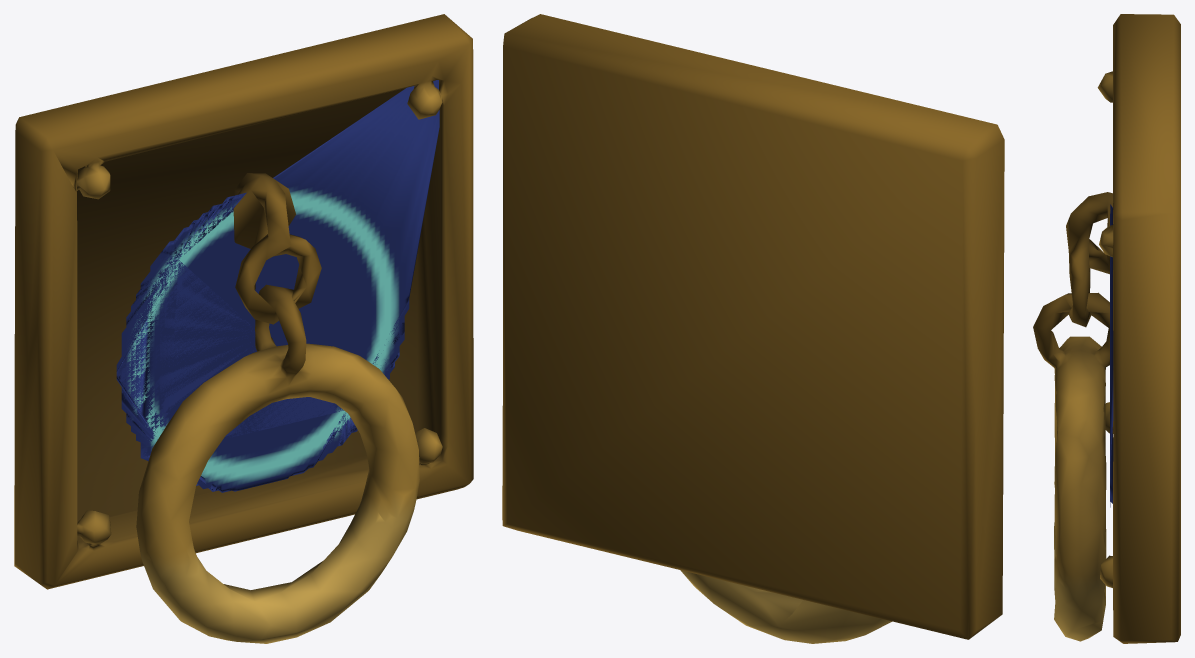
Rendered from aro_puxar.glb.
3 views of the same model, side by side, from view 1: azimuth 30°, elevation 25°; view 2: azimuth 150°, elevation 25°; view 3: azimuth 270°, elevation 25° (orthographic). The views are drawn at different scales.
Visible parts, largest first — view 1: Aro, Placa; view 2: Aro; view 3: Aro, Placa.
Part boxes in pixels (x1=…): Aro: x1=14, y1=14, x2=473, y2=643; Placa: x1=116, y1=80, x2=439, y2=492; Aro: x1=502, y1=14, x2=1004, y2=643; Aro: x1=1033, y1=14, x2=1180, y2=643; Placa: x1=1110, y1=204, x2=1113, y2=507.
Bounding box in the file's own units: 0.4519 × 0.5346 × 0.1395.
